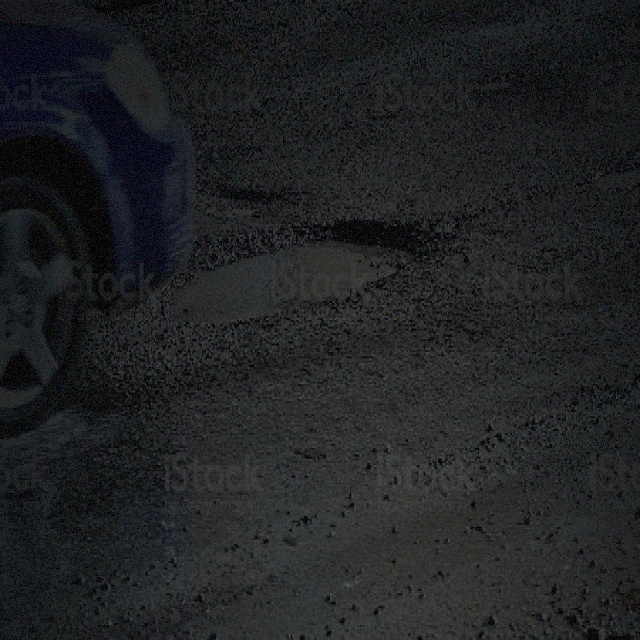pothole: (160, 213, 440, 333), (588, 160, 638, 190)
